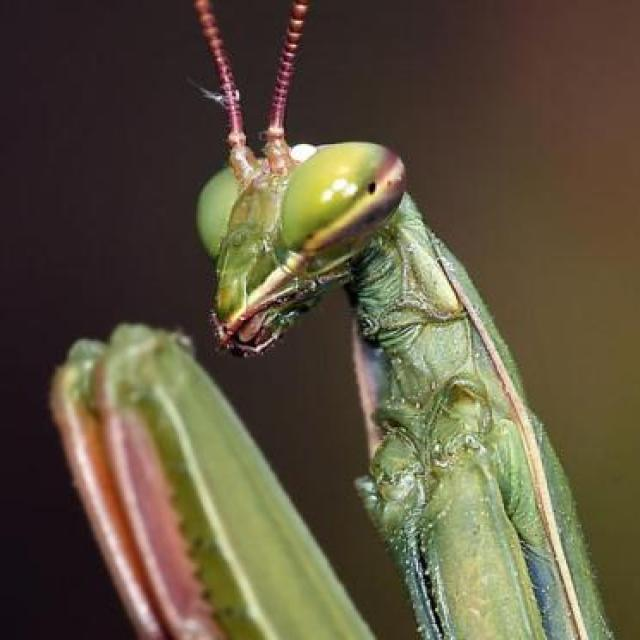antennae: (194, 1, 256, 173), (258, 5, 307, 174)
body: (193, 136, 607, 640)
insect: (49, 2, 608, 640)
legs: (100, 325, 373, 640), (39, 342, 230, 640)
mouthpart: (213, 278, 300, 360)
